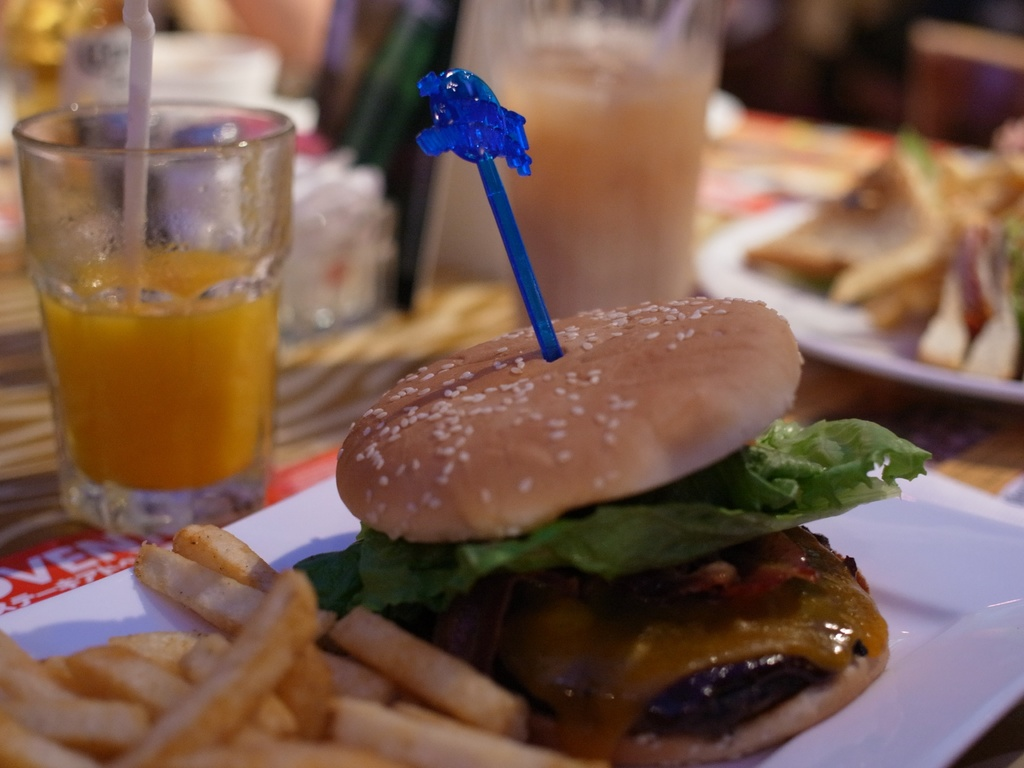French fries: (0, 545, 616, 760)
